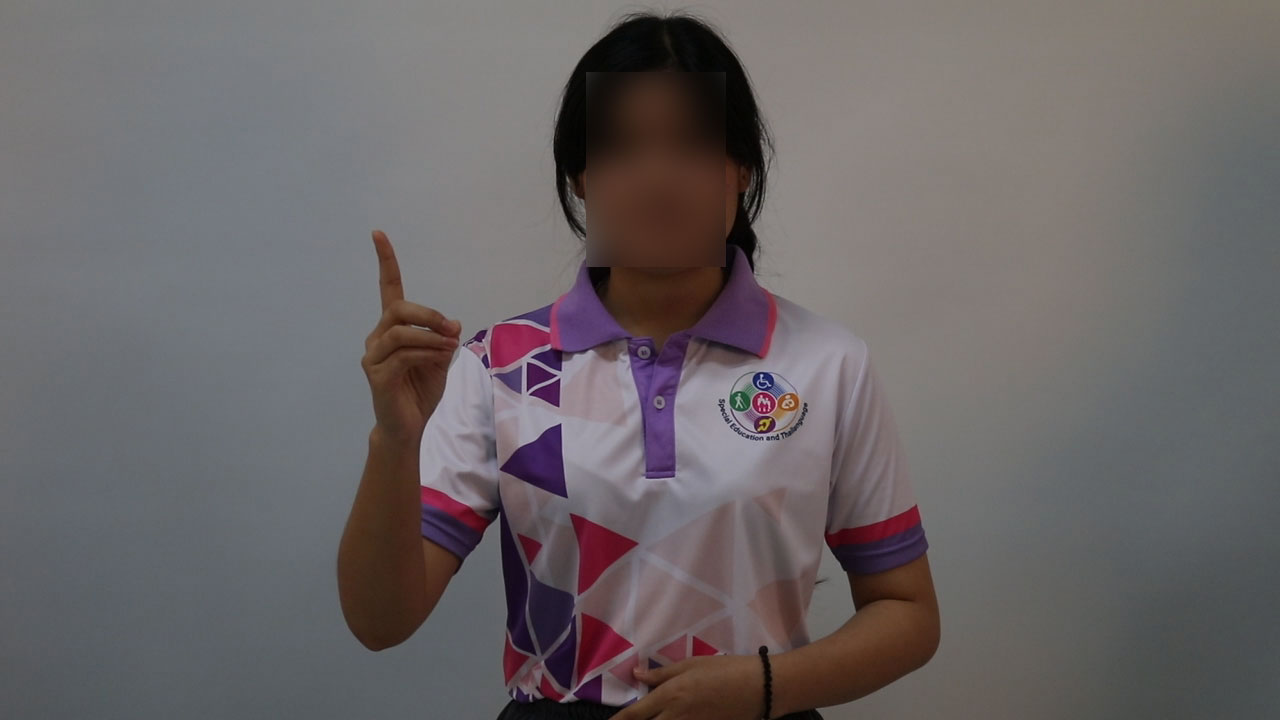dor: (341, 217, 474, 438)
